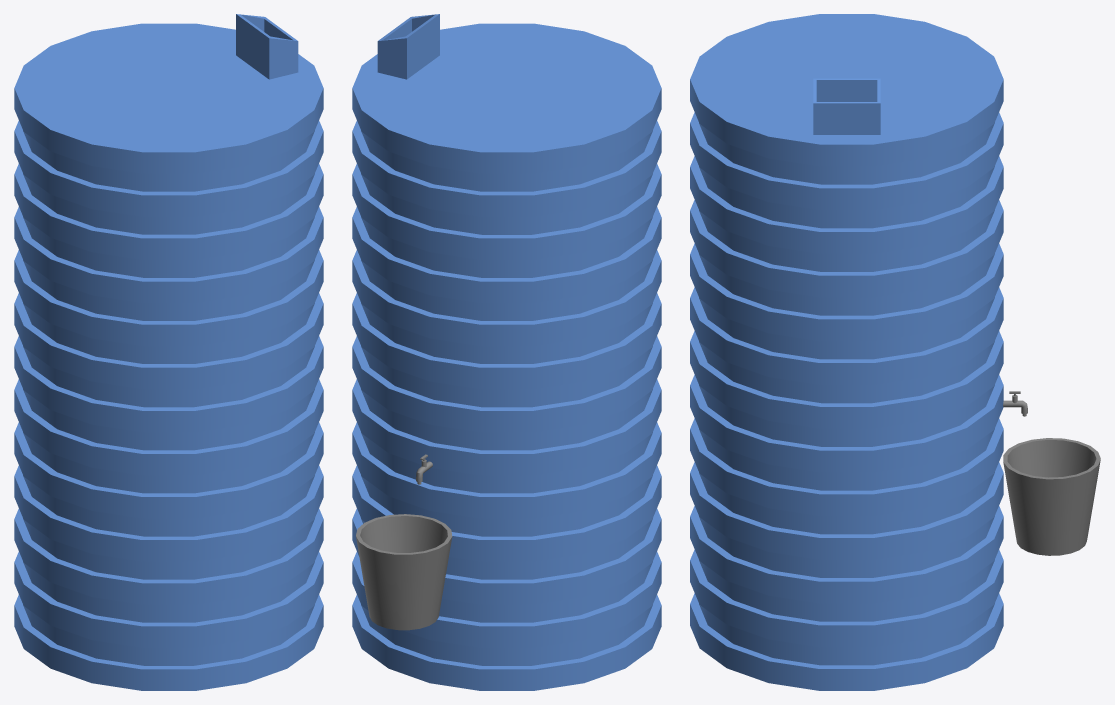
File: WatertankSecondStep.fbx
3 renders of one model, left to right at view 1: azimuth 30°, elevation 25°; view 2: azimuth 150°, elevation 25°; view 3: azimuth 270°, elevation 25°, orthographic.
Parts seen in each view (by area): view 1: TallWaterTank; view 2: TallWaterTank; view 3: TallWaterTank.
Boxes of the visible parts, <box> form: TallWaterTank: <box>14,14,323,690</box>; TallWaterTank: <box>352,14,661,690</box>; TallWaterTank: <box>690,14,1100,690</box>.
Size of the model in its own units: 161 by 338 by 214.
